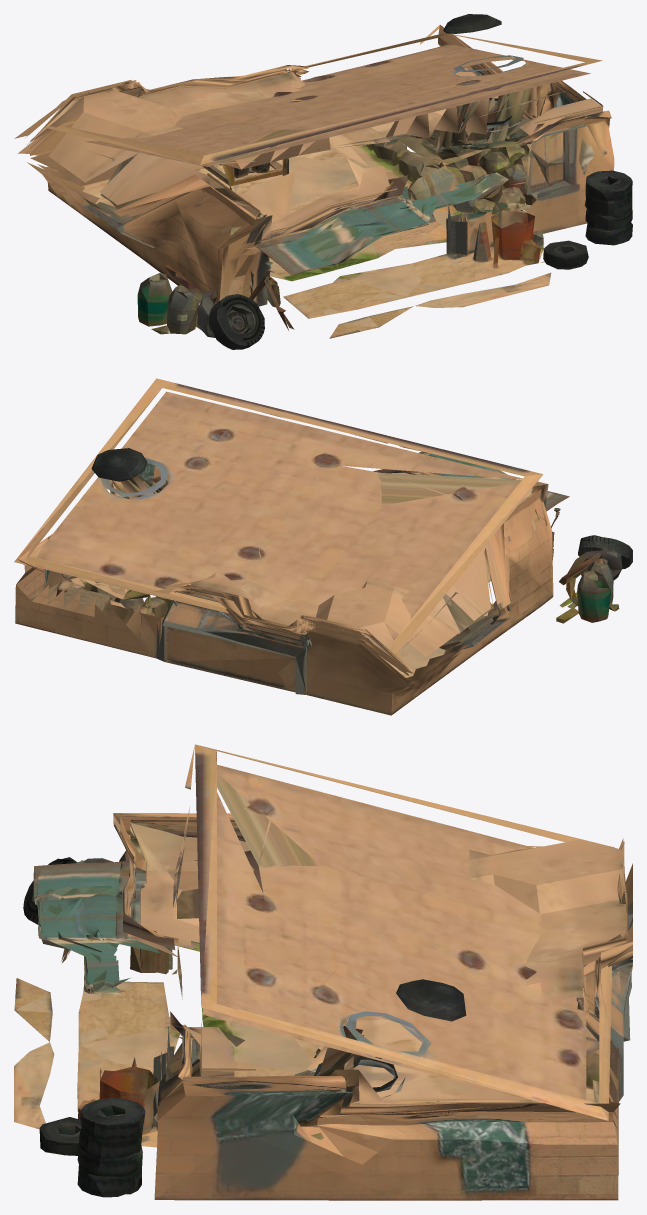
Rendered from militia_weapons_workshop_wreck.glb.
3 views of the same model, one above another, from view 1: azimuth 30°, elevation 25°; view 2: azimuth 150°, elevation 25°; view 3: azimuth 270°, elevation 25° (orthographic). The views are drawn at different scales.
Visible parts, largest first — view 1: wall, roof; view 2: roof, wall; view 3: wall, roof.
Boxes of the visible parts, <box> form: wall: <box>14,25,632,349</box>; roof: <box>46,14,602,166</box>; roof: <box>14,378,543,653</box>; wall: <box>15,451,632,715</box>; wall: <box>14,813,632,1200</box>; roof: <box>172,744,614,1120</box>.
Size of the model in its own units: 5.99 by 1.78 by 5.04.
1 material, 1 textured.
